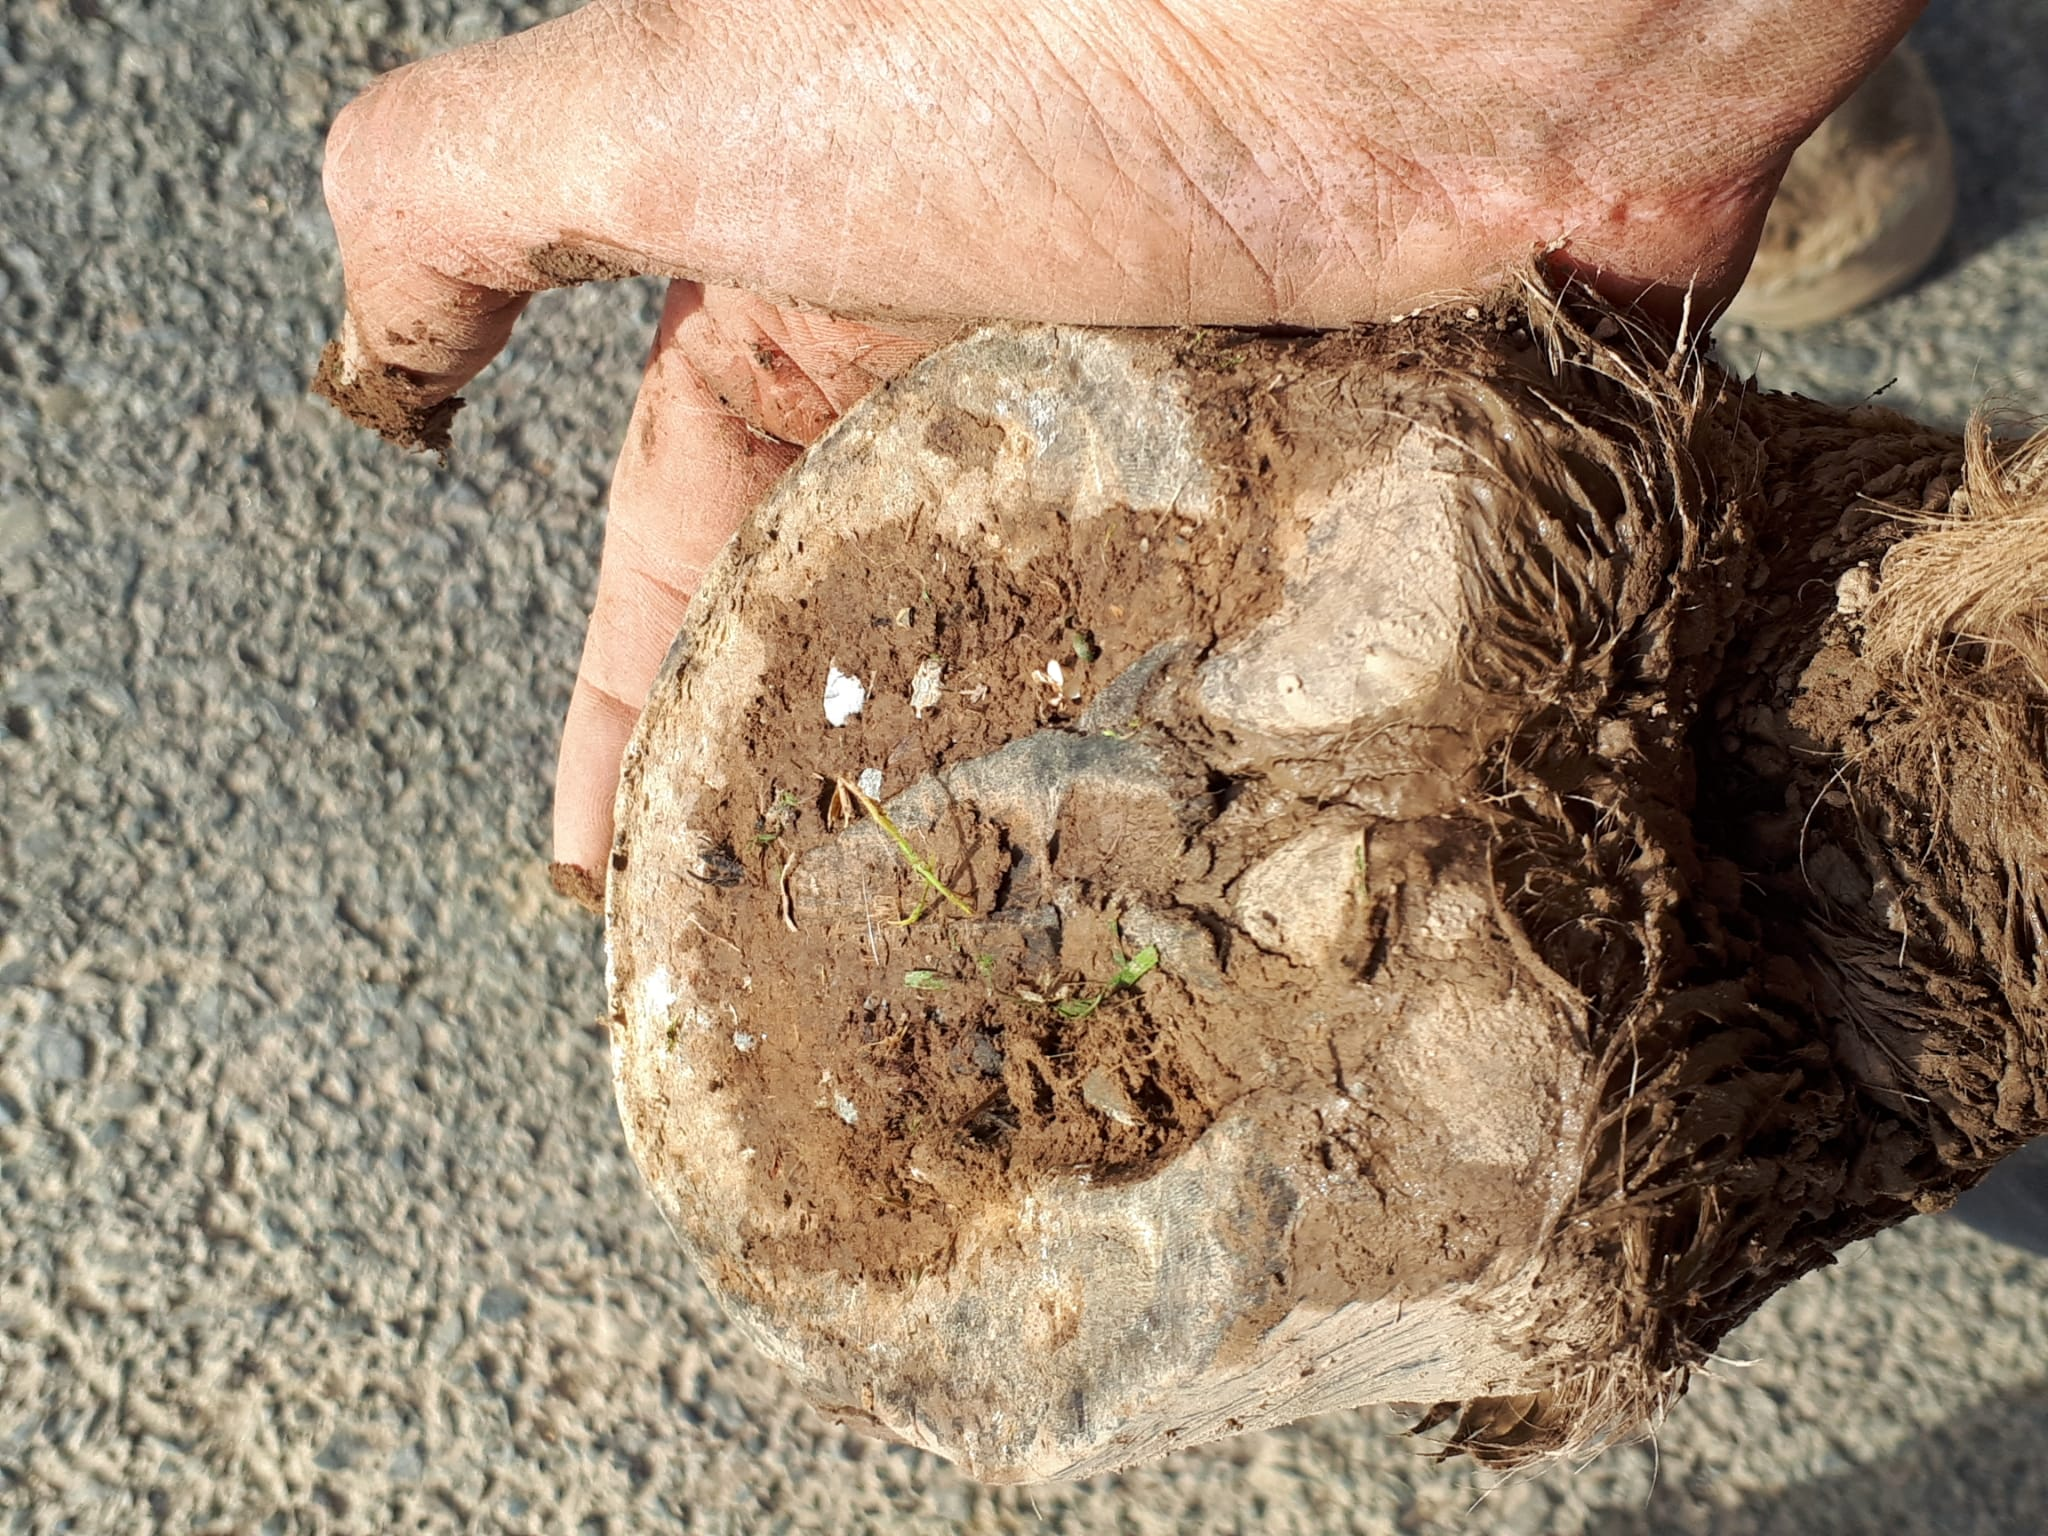horsesole: (606, 323, 1322, 1484)
